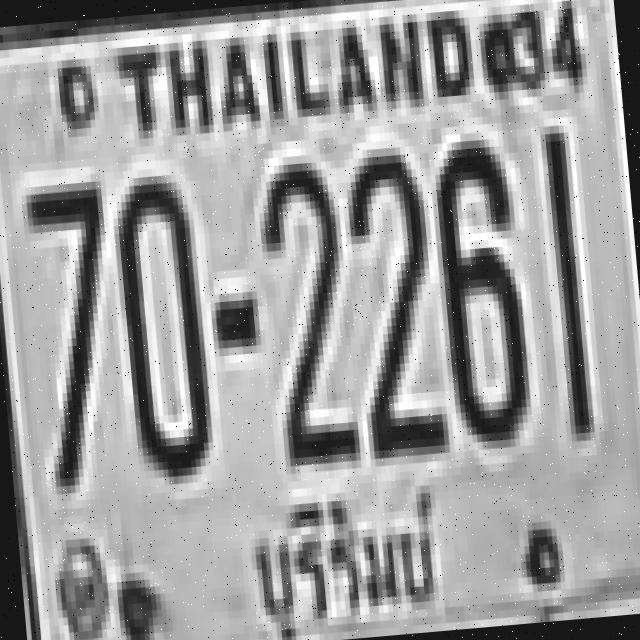0: (109, 166, 210, 472)
1: (539, 121, 589, 430)
2: (340, 141, 442, 455), (254, 153, 356, 467)
6: (426, 130, 528, 443)
7: (20, 173, 121, 488)
Buriram: (231, 477, 446, 640)
